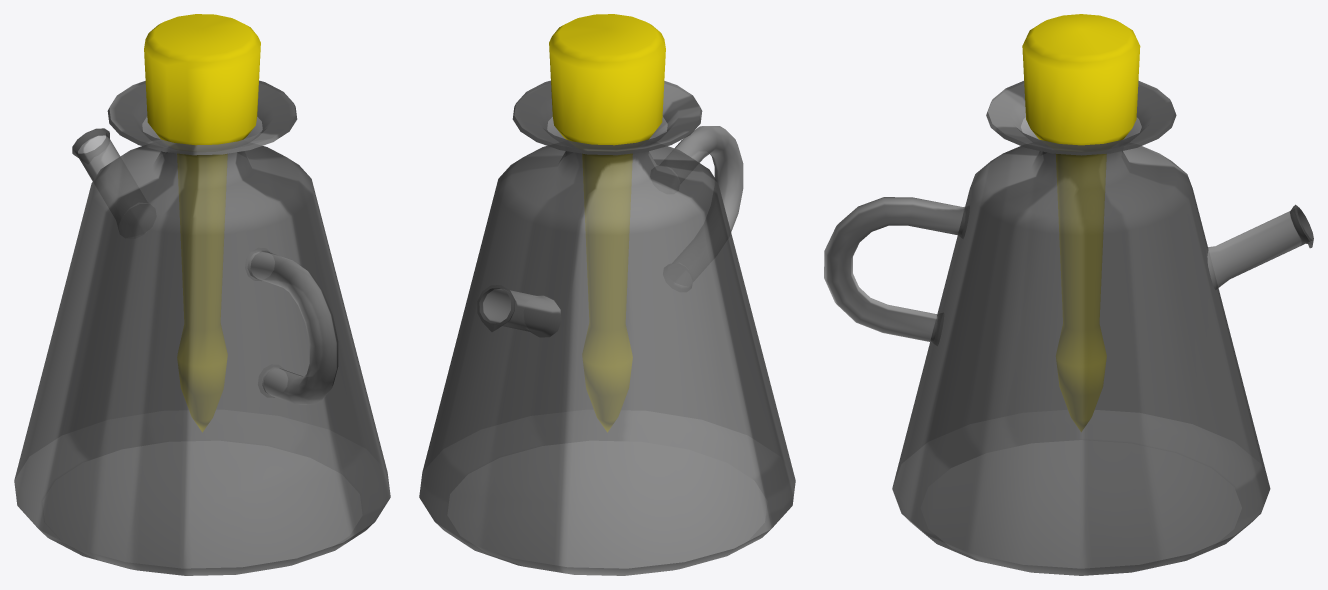
Rendered from soysauce_empty.fbx.
The picture shows the model from 3 angles, left to right: view 1: azimuth 30°, elevation 25°; view 2: azimuth 150°, elevation 25°; view 3: azimuth 270°, elevation 25°; orthographic projection.
Visible parts, largest first — view 1: soy_empty; view 2: soy_empty; view 3: soy_empty.
Boxes of the visible parts, box(x1,y1,x2,y2) form: soy_empty: box(14, 14, 390, 575); soy_empty: box(419, 14, 795, 575); soy_empty: box(824, 14, 1313, 575).
Bounding box in the file's own units: 9.93 × 13.88 × 12.86.
Materials: 2 (1 with a texture image).
